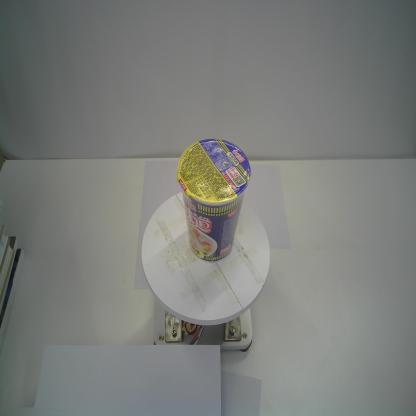Instant Noodles: (174, 134, 252, 264)
